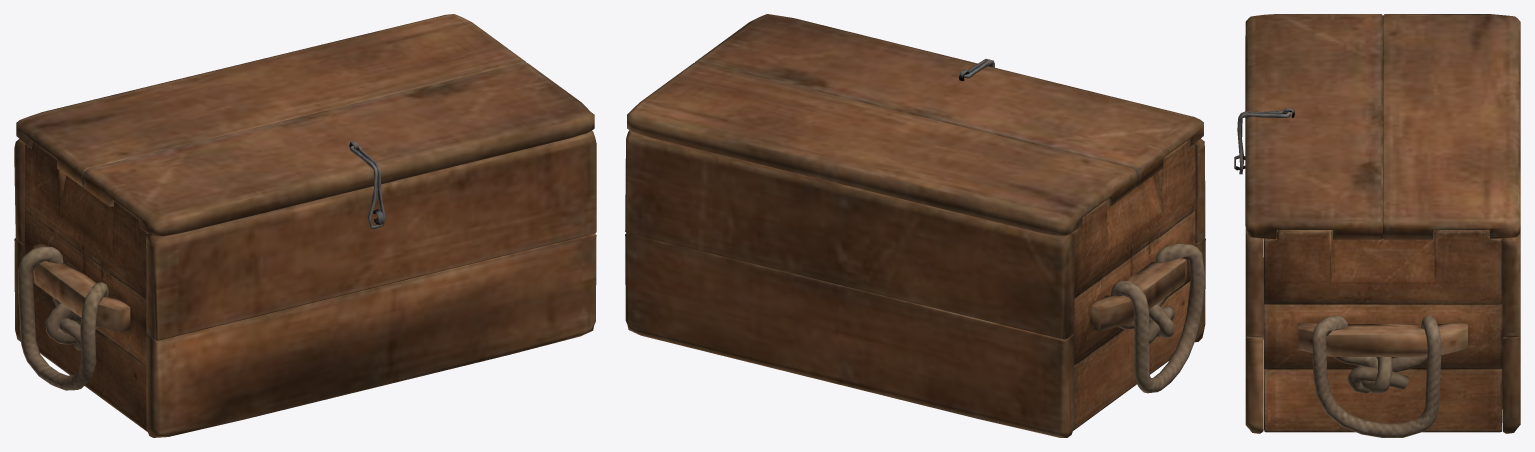
File: crate.glb
3 views of the same model, side by side, from view 1: azimuth 30°, elevation 25°; view 2: azimuth 150°, elevation 25°; view 3: azimuth 270°, elevation 25° (orthographic). The views are drawn at different scales.
Size of the model in its own units: 0.8253 by 0.3495 by 0.4072.
Materials: 1 (1 with a texture image).
